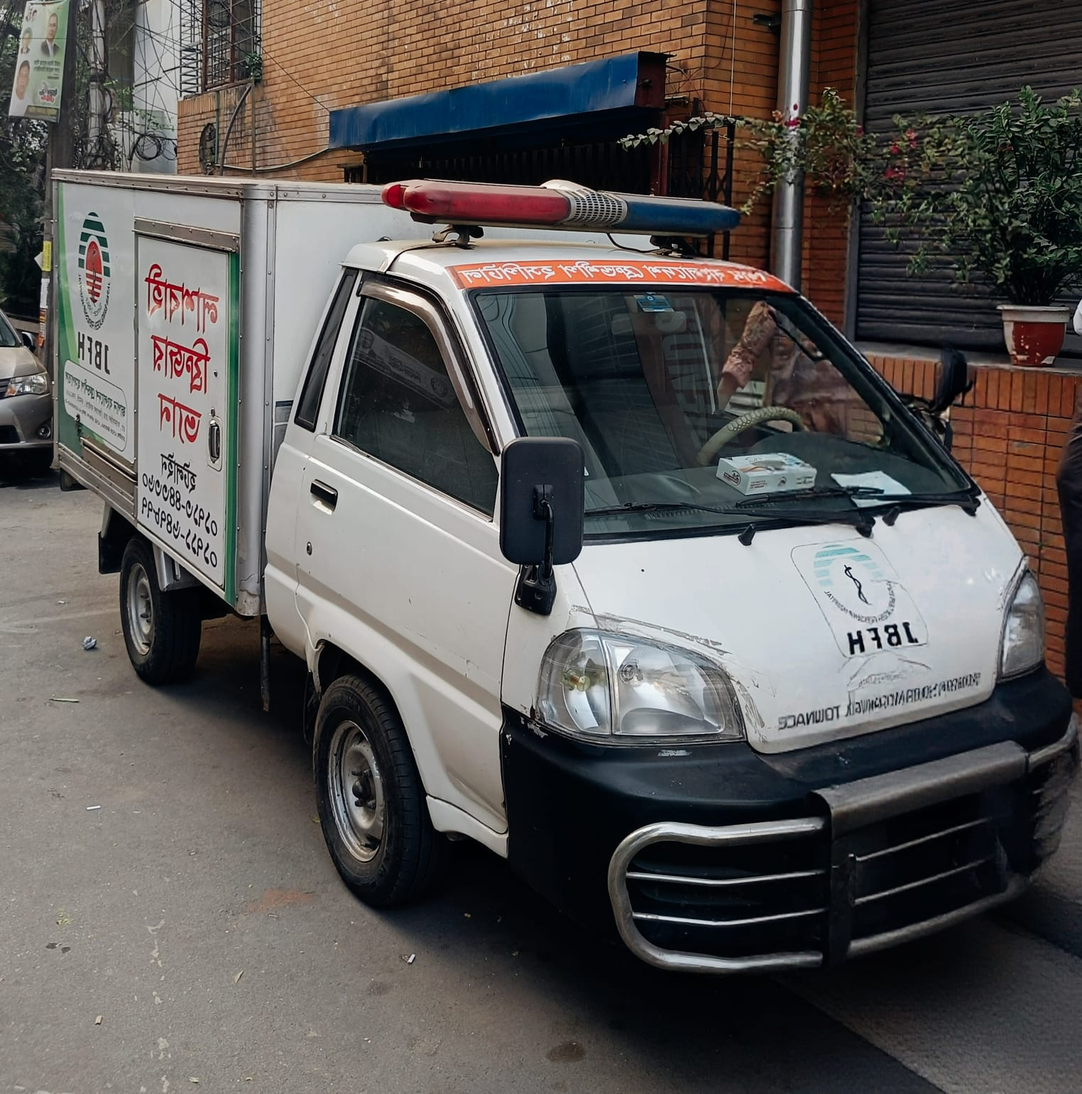Ambulance: (28, 125, 1082, 1049)
